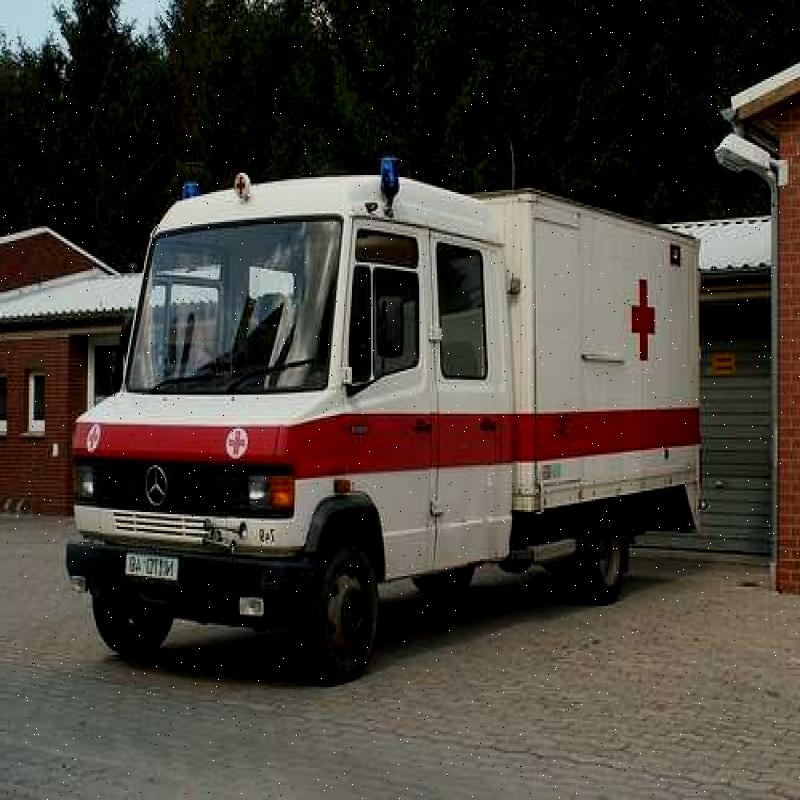AmbulanceSiren: (368, 148, 420, 215)
